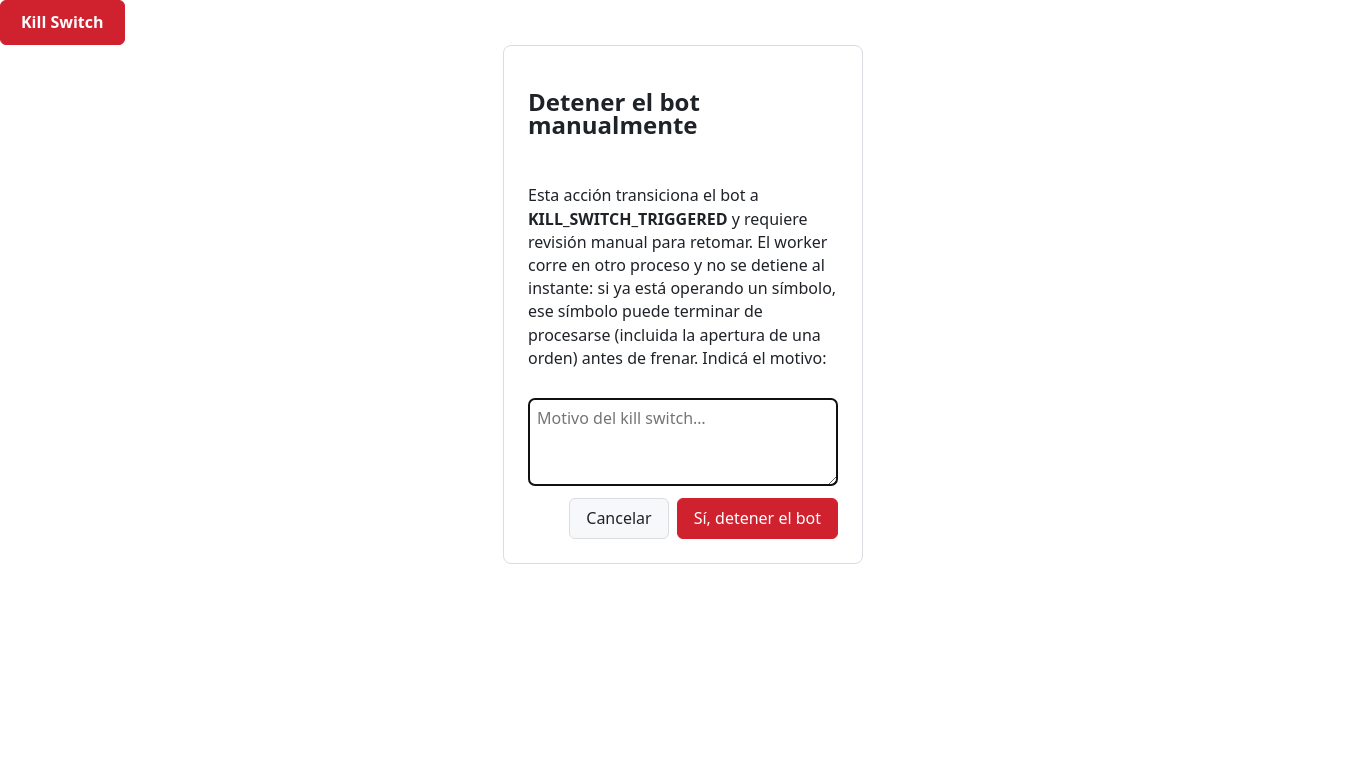
Test: KillSwitchButton › requires a non-empty reason before submitting
Click the button "Kill Switch": (62, 23) [0,0,124,45]
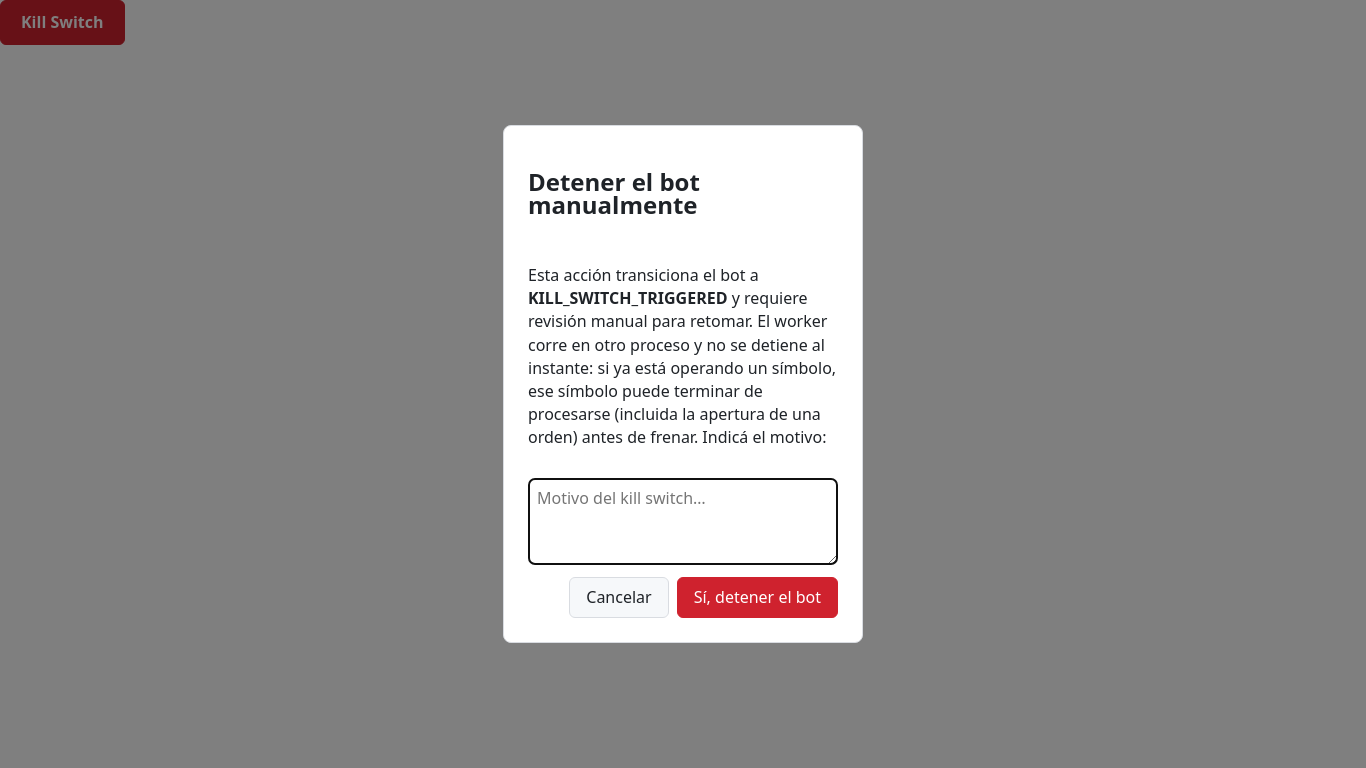
Click the button "Sí, detener el bot": (757, 598) [677,577,838,618]
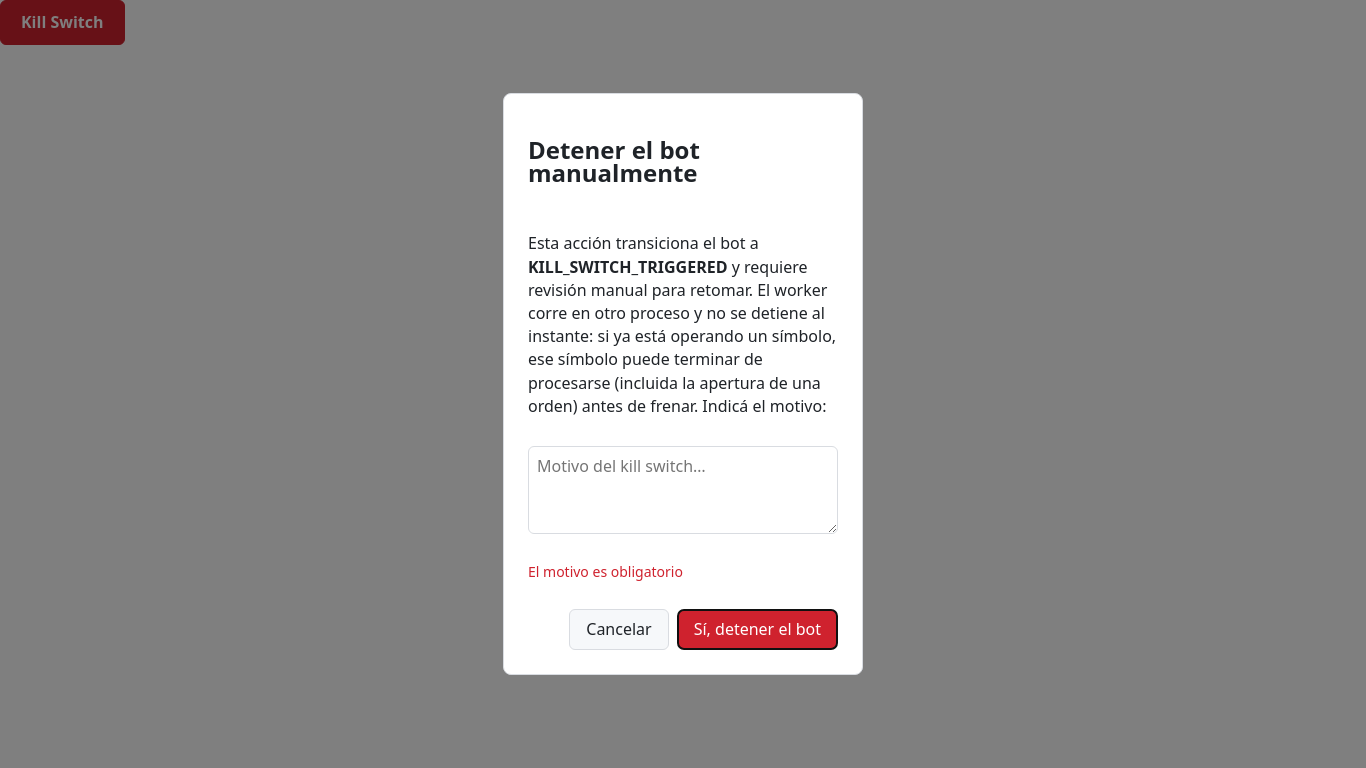
Expected: the text "El motivo es obligatorio" is shown, [528,562,683,580]
